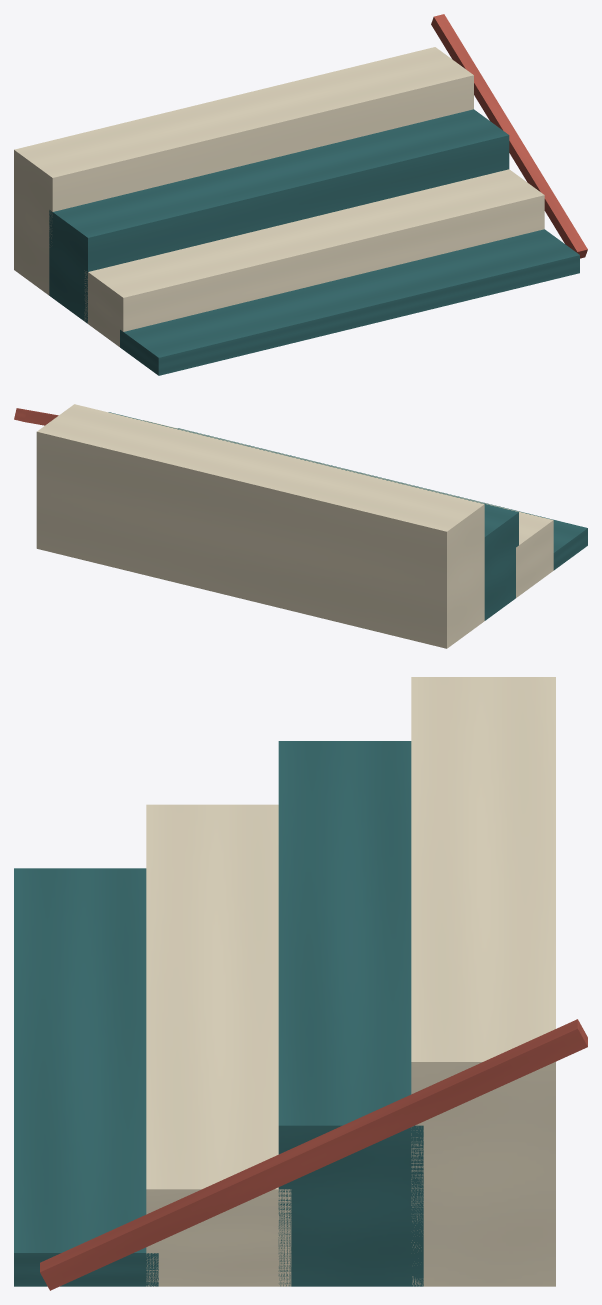
The model's file is atlas100-s031-a10.lod1.glb.
3 views of the same model, one above another, from view 1: azimuth 30°, elevation 25°; view 2: azimuth 150°, elevation 25°; view 3: azimuth 270°, elevation 25° (orthographic). The views are drawn at different scales.
Visible parts, largest first — view 1: atlas100-s031-a10:part-003, atlas100-s031-a10:part-002, atlas100-s031-a10:part-001, atlas100-s031-a10:part-000, atlas100-s031-a10:part-005; view 2: atlas100-s031-a10:part-003, atlas100-s031-a10:part-002, atlas100-s031-a10:part-001, atlas100-s031-a10:part-000, atlas100-s031-a10:part-005; view 3: atlas100-s031-a10:part-003, atlas100-s031-a10:part-002, atlas100-s031-a10:part-001, atlas100-s031-a10:part-000, atlas100-s031-a10:part-005.
Boxes of the visible parts, bbox=[...] form: atlas100-s031-a10:part-003: bbox=[14, 47, 473, 295]; atlas100-s031-a10:part-002: bbox=[49, 109, 509, 323]; atlas100-s031-a10:part-001: bbox=[84, 169, 544, 346]; atlas100-s031-a10:part-000: bbox=[120, 229, 579, 375]; atlas100-s031-a10:part-005: bbox=[431, 14, 587, 258]; atlas100-s031-a10:part-003: bbox=[36, 404, 484, 648]; atlas100-s031-a10:part-002: bbox=[108, 412, 518, 620]; atlas100-s031-a10:part-001: bbox=[143, 420, 553, 597]; atlas100-s031-a10:part-000: bbox=[178, 428, 587, 570]; atlas100-s031-a10:part-005: bbox=[14, 408, 58, 425]; atlas100-s031-a10:part-003: bbox=[411, 677, 555, 1286]; atlas100-s031-a10:part-002: bbox=[278, 741, 423, 1286]; atlas100-s031-a10:part-001: bbox=[146, 804, 291, 1286]; atlas100-s031-a10:part-000: bbox=[14, 868, 158, 1286]; atlas100-s031-a10:part-005: bbox=[40, 1019, 587, 1290].
Size of the model in its own units: 2.28 by 0.7246 by 1.39.
3 materials, 3 textured.
